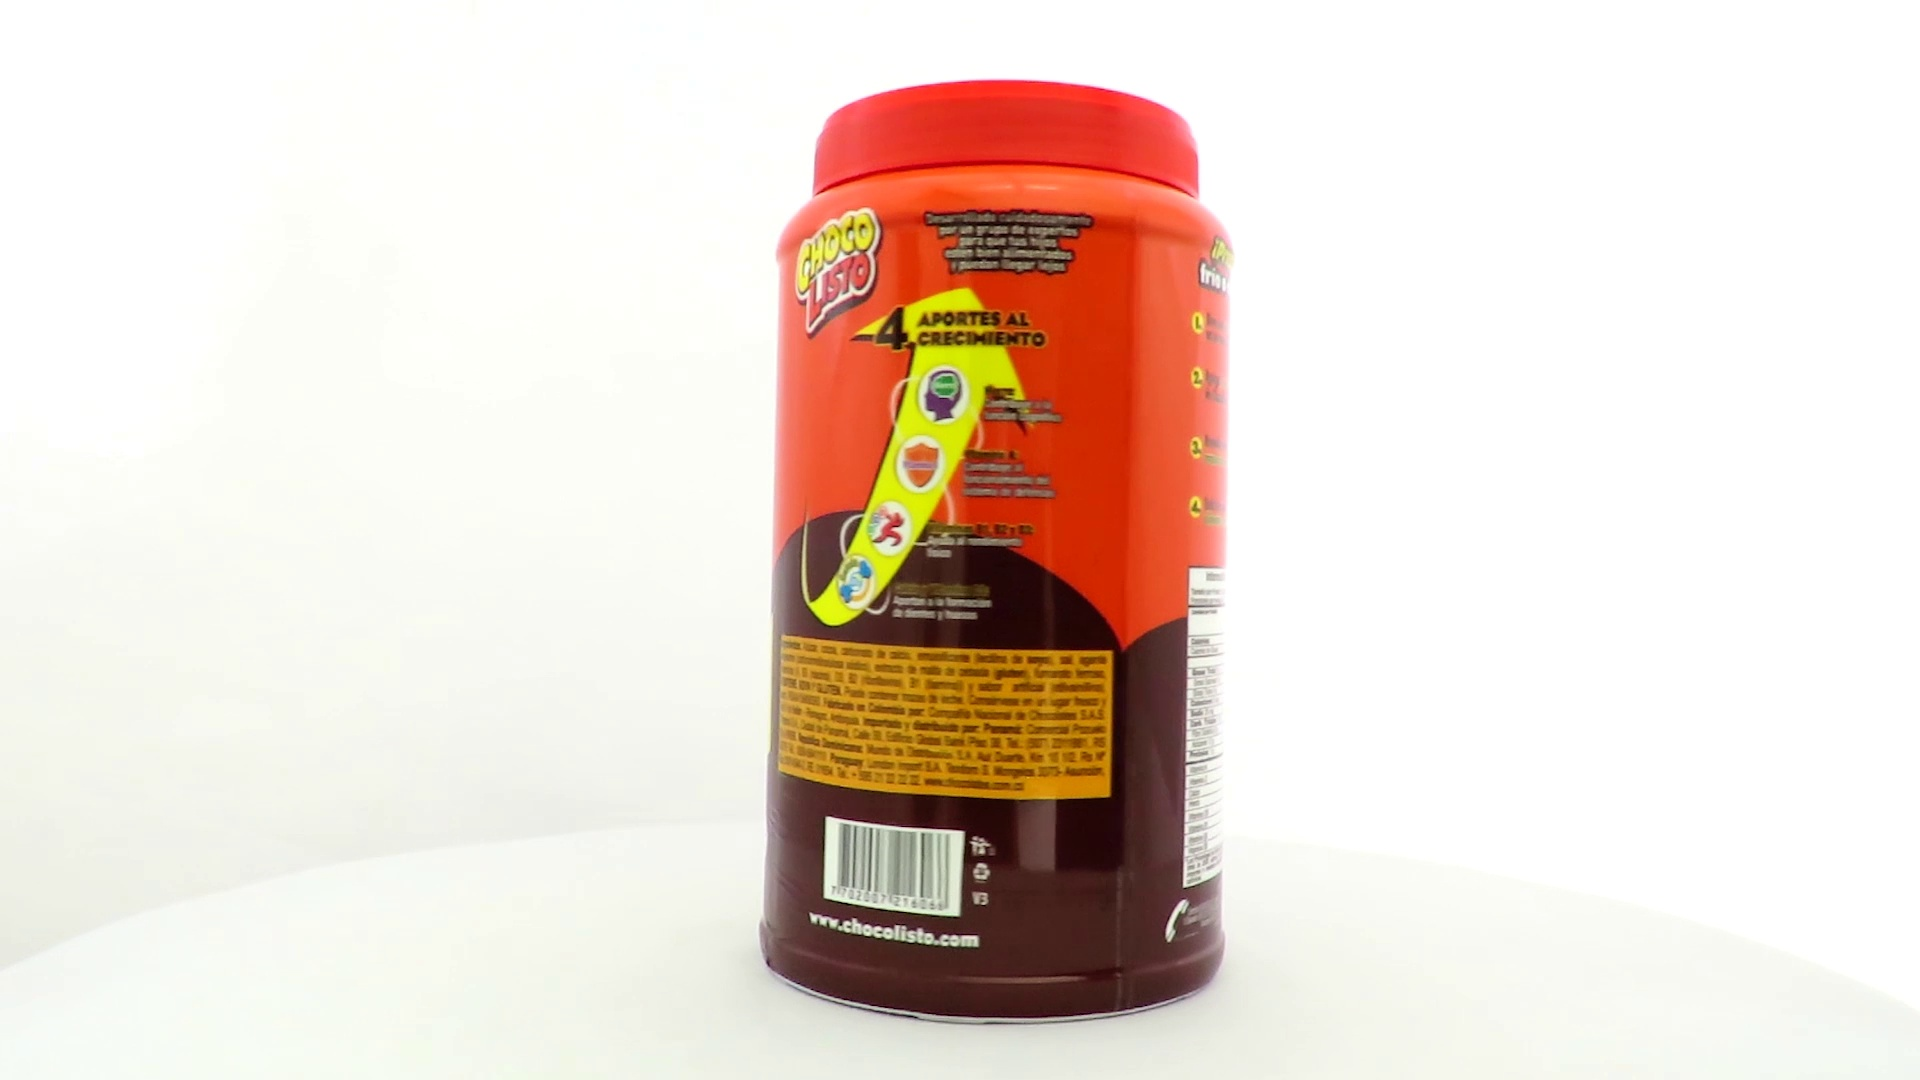COL0170103TRR00100: (754, 75, 1241, 1033)
